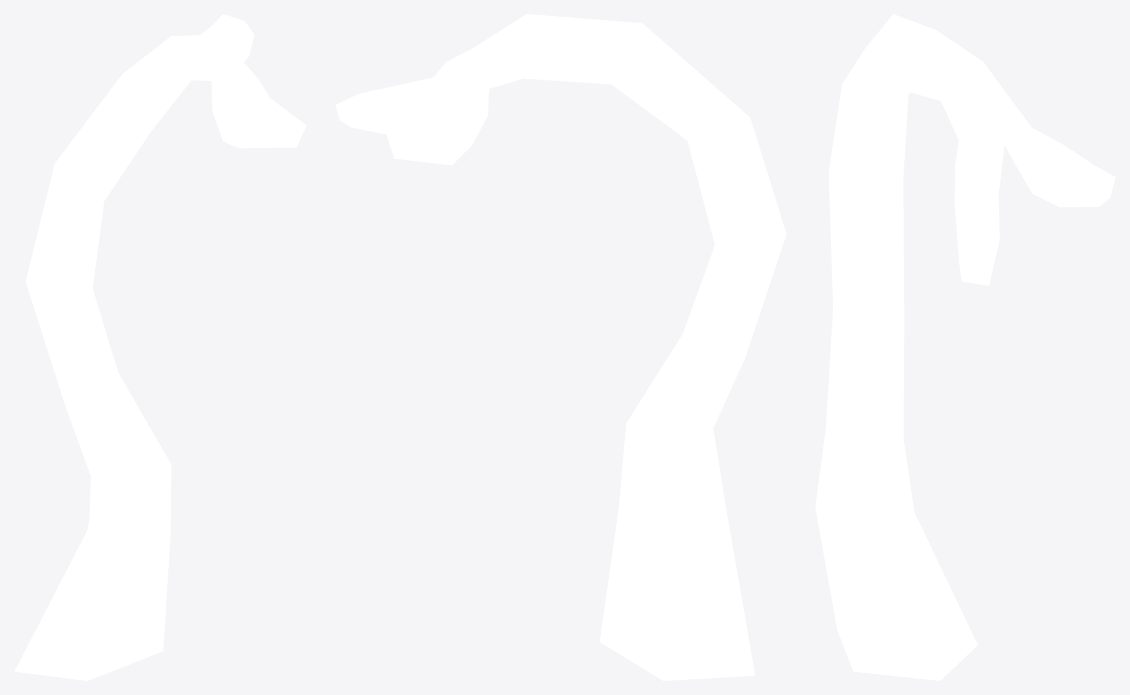
3 views of the same model, side by side, from view 1: azimuth 30°, elevation 25°; view 2: azimuth 150°, elevation 25°; view 3: azimuth 270°, elevation 25° (orthographic). The views are drawn at different scales.
Visible parts, largest first — view 1: SM_Wheat_01v1_LOD0; view 2: SM_Wheat_01v1_LOD0; view 3: SM_Wheat_01v1_LOD0.
Part boxes in pixels (<box>): SM_Wheat_01v1_LOD0: <box>14,14,306,680</box>; SM_Wheat_01v1_LOD0: <box>335,14,786,680</box>; SM_Wheat_01v1_LOD0: <box>815,14,1115,680</box>.
Size of the model in its own units: 0.1382 by 0.2402 by 0.0978.
1 material, 1 textured.
